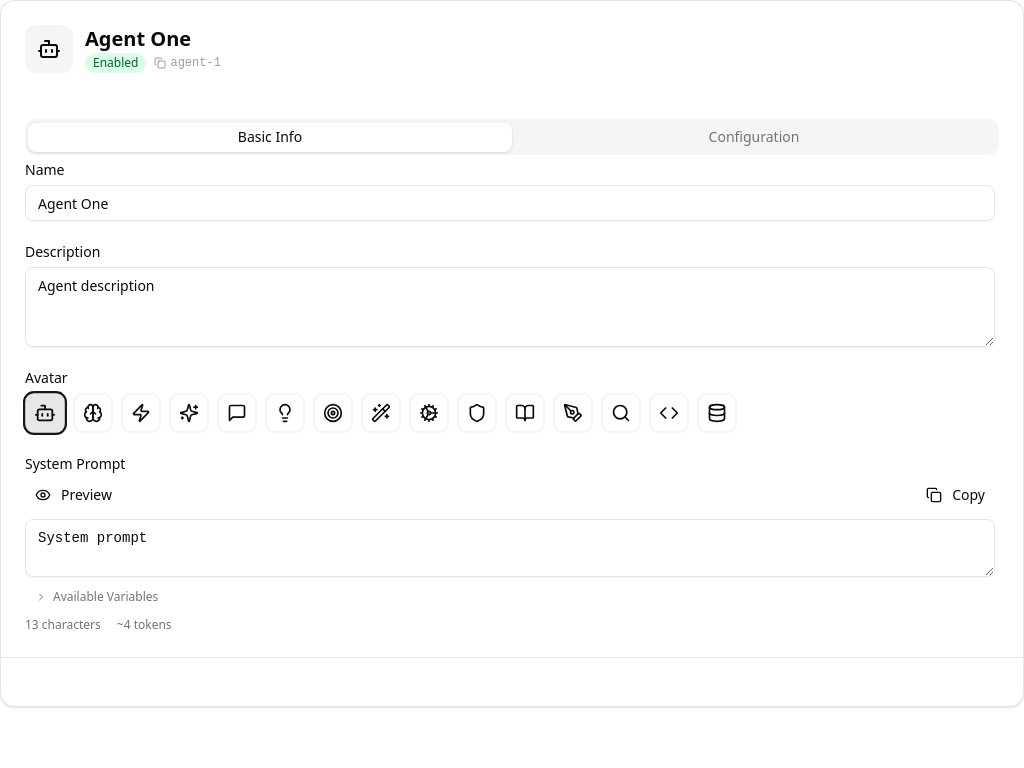
AgentDetail › shows Save Changes when only the system prompt is edited in Basic Info
Expected: the button "Save Changes" is not shown
Step 1. Replace the text in the text box with placeholder "Enter the agent's system prompt..." with "Updated system prompt" → [510, 548], box x1=25 y1=519 x2=995 y2=577
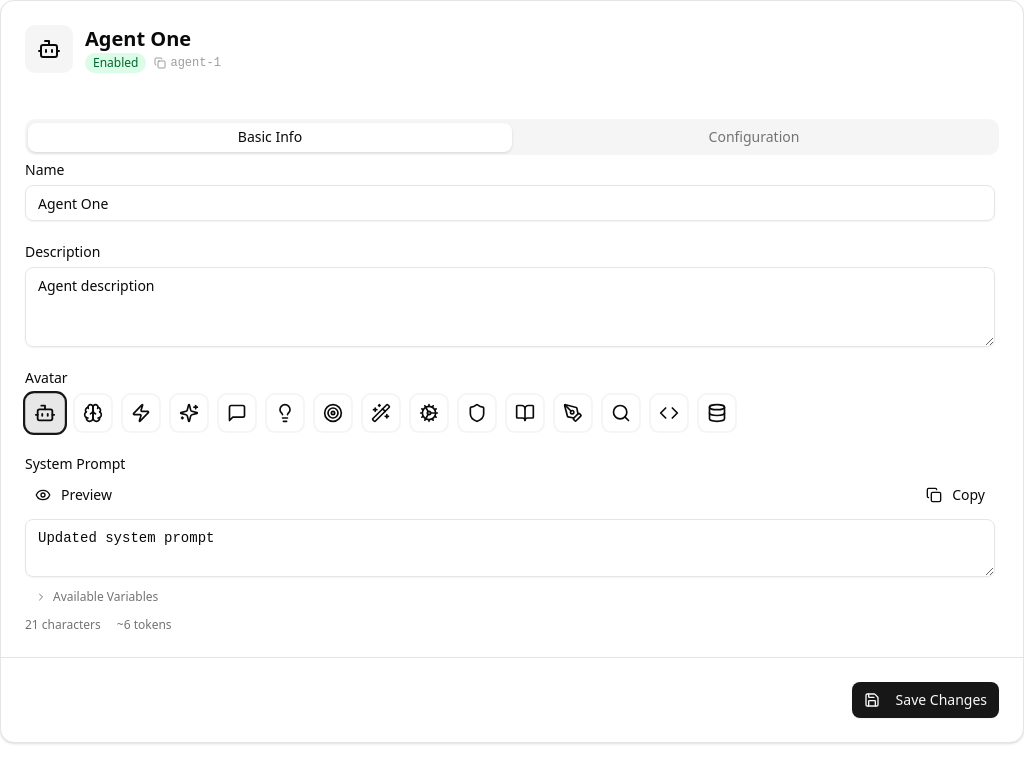
Now the button "Save Changes" is shown, box x1=852 y1=682 x2=999 y2=718
